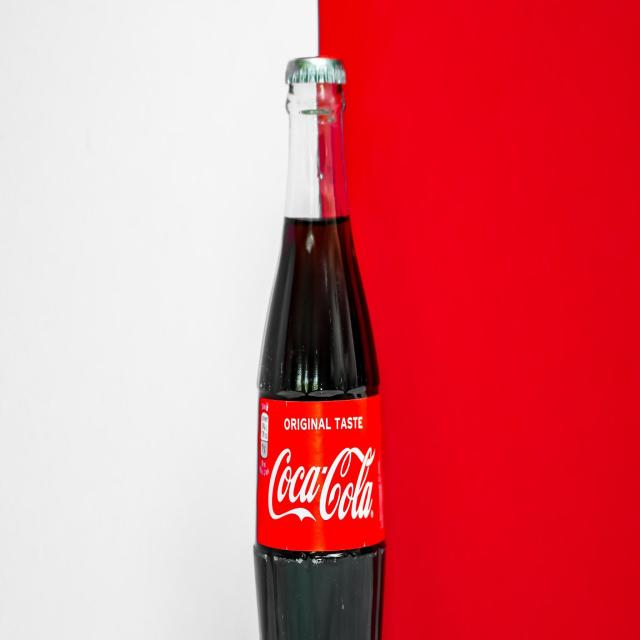coca-cola: (266, 445, 379, 530)
